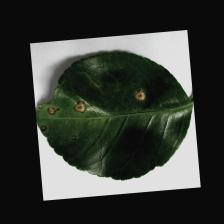canker: (37, 79, 166, 140)
